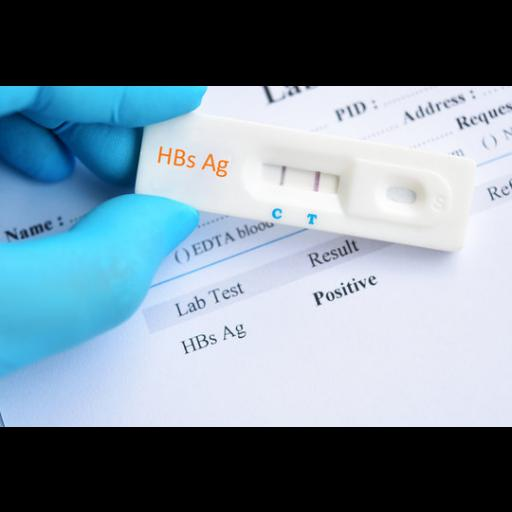Pos: (135, 105, 480, 254)
